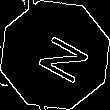N_NW: (23, 25, 87, 85)
